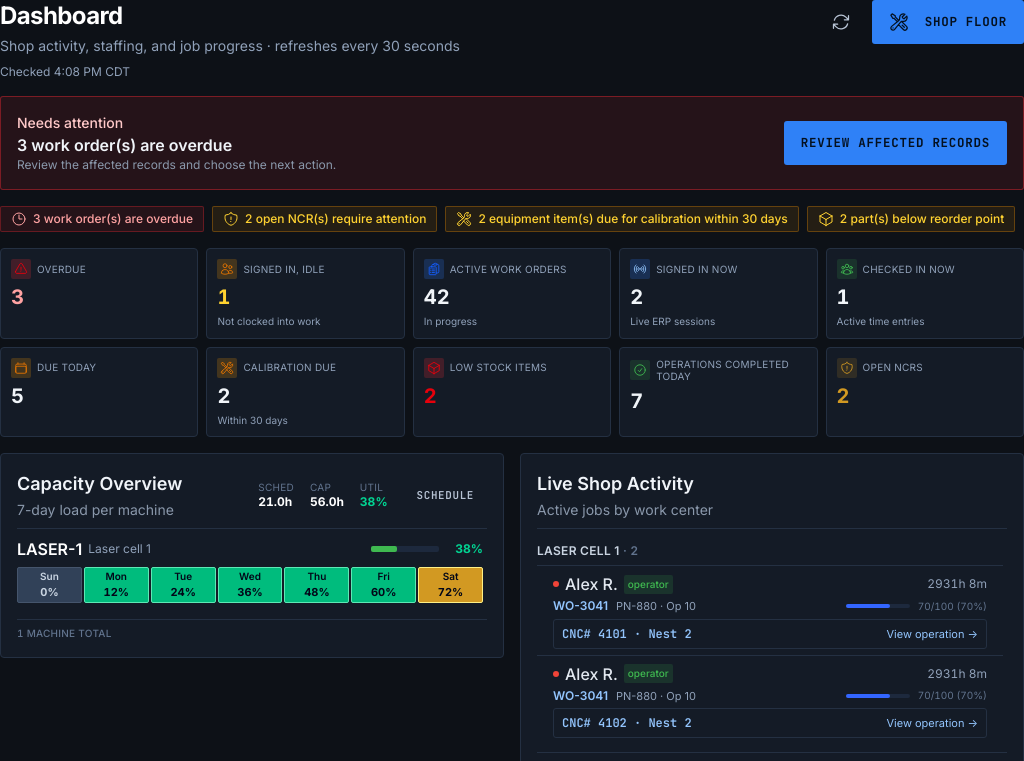
dashboard operation details and nest PDF › explains when a nest has no attached PDF
The width and height of the screenshot is (1024, 761).
Click the button with aria-label "View operation details for CNC# 4102" at x=627, y=723, box [553,708,987,738]
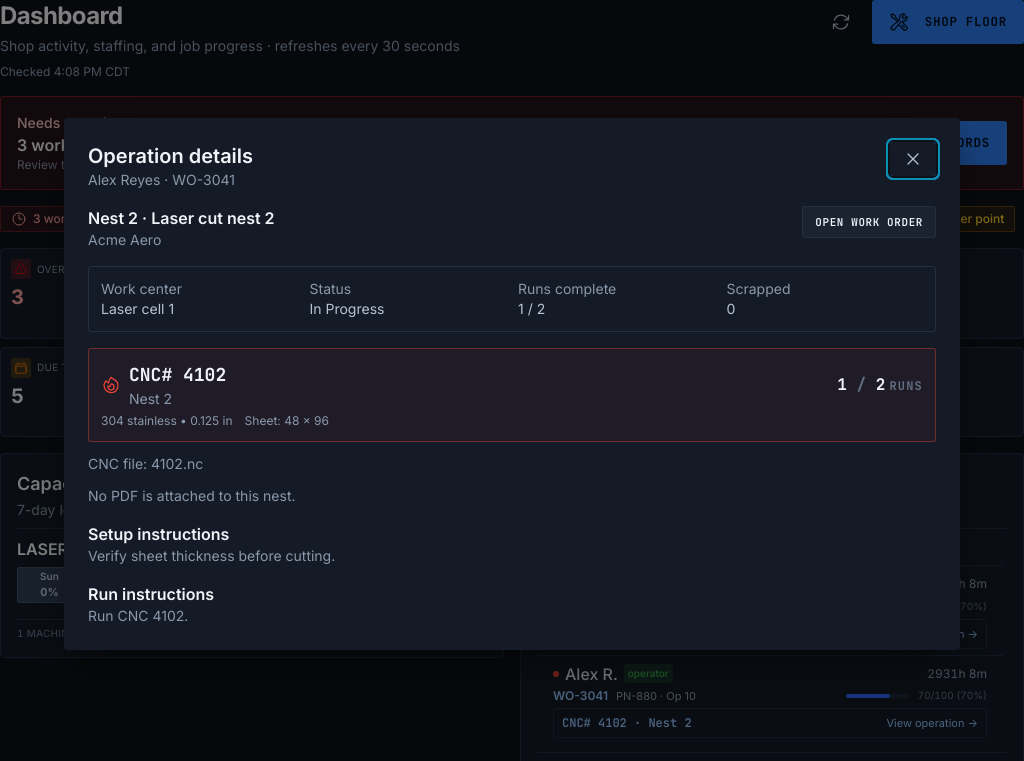
Check: the text "No PDF is attached to this nest." is shown, box [88,487,296,504]
